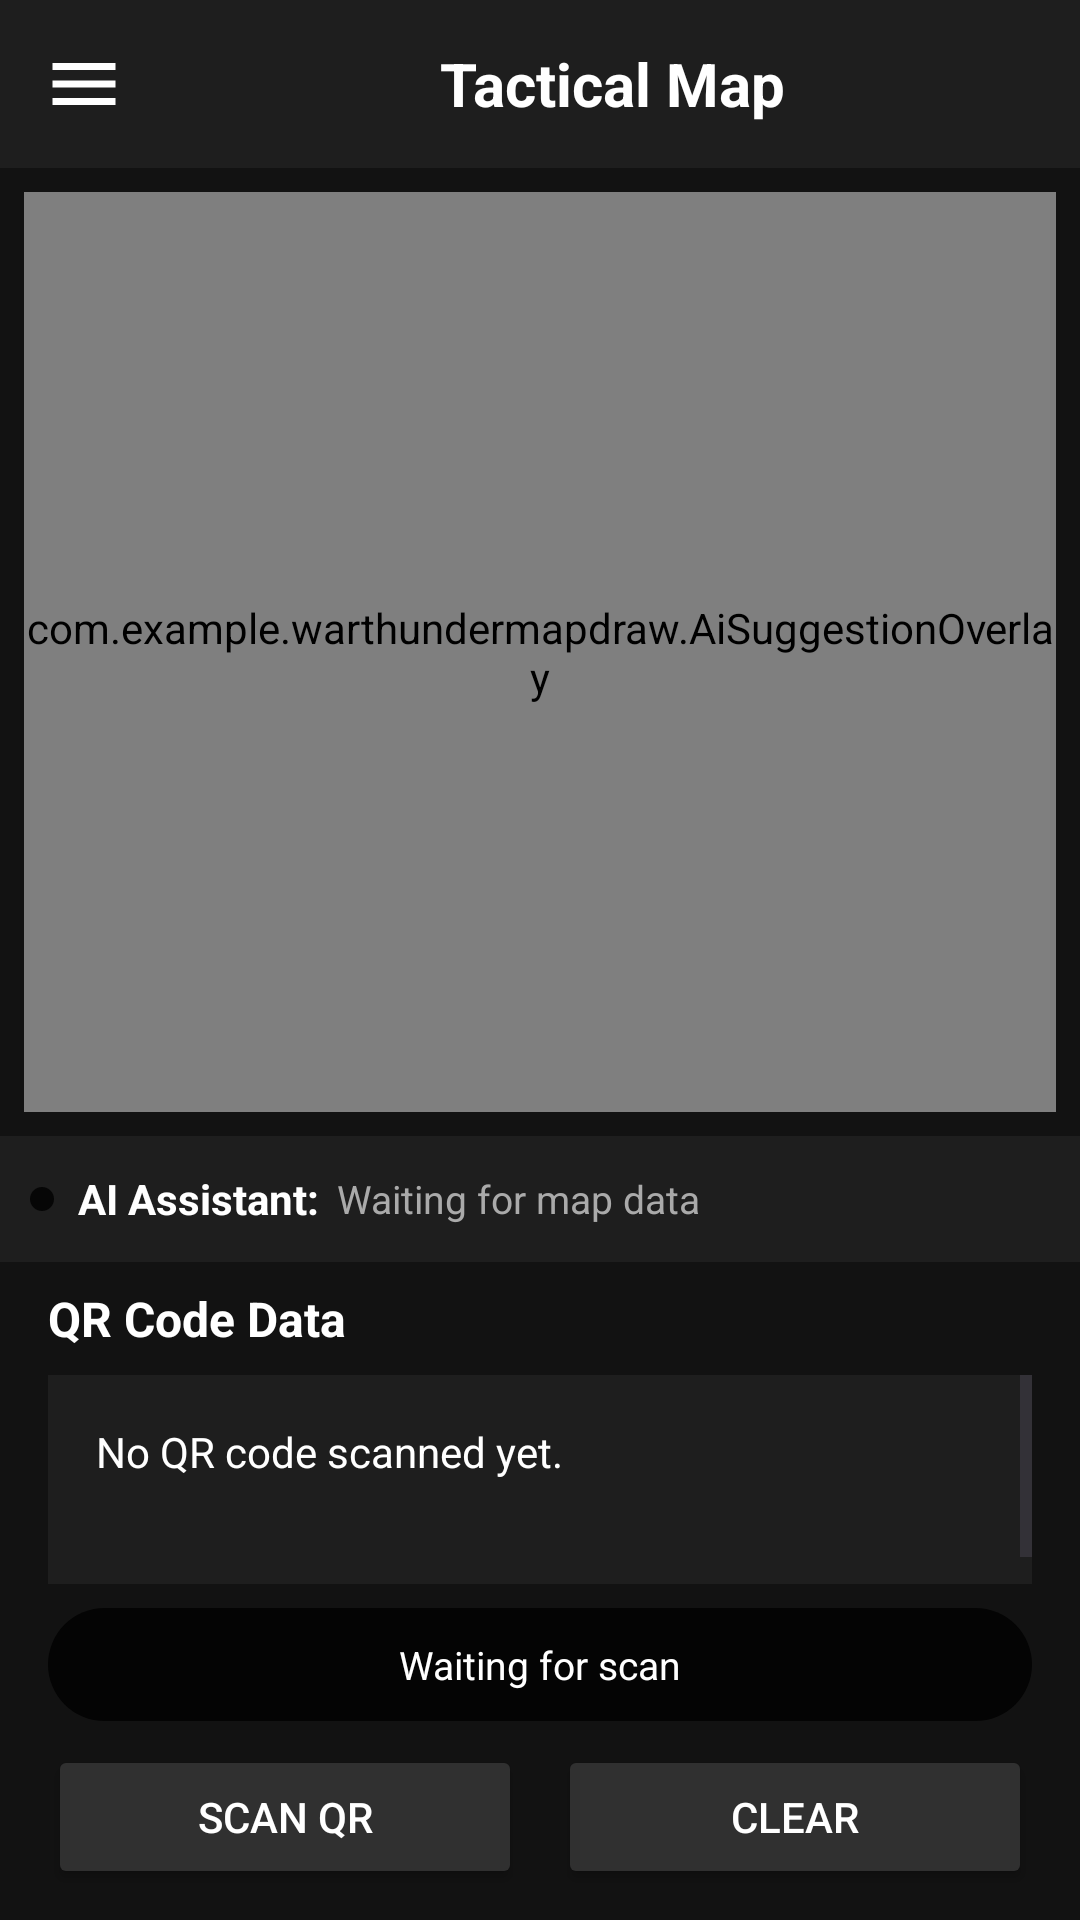

Locate icon controls on the screen. Image size 1080px×1920px, boxes as (x1,y1,x2,y2).
Open menu: (52,63,116,105)
